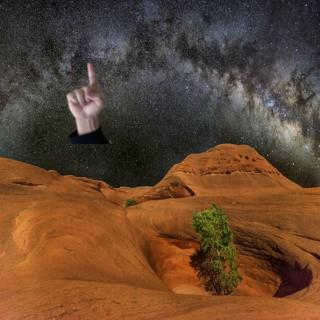IRRITATED: (63, 60, 107, 121)
